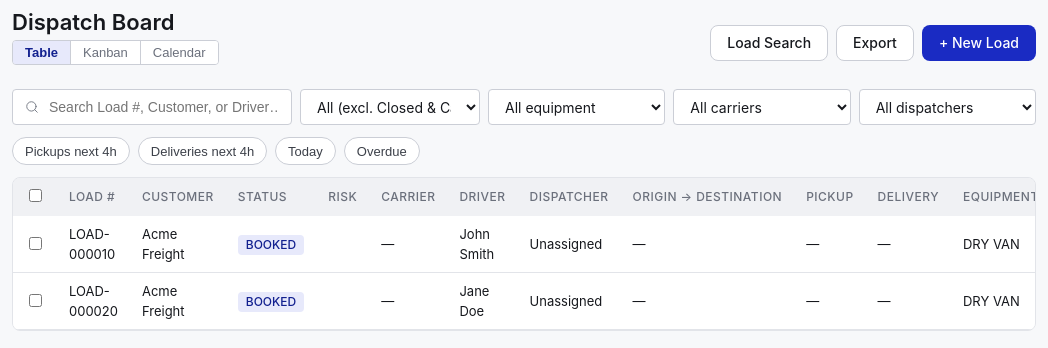
Test: DispatchBoardPage — Dispatch Board Driver visibility › search › matches driver full name
Expected: the text "LOAD-000010" is shown, [57,216,130,272]
In the field with placeholder "Search Load #, Customer, or Driver…": (163,107) [47,98,279,116], type "John Smith"
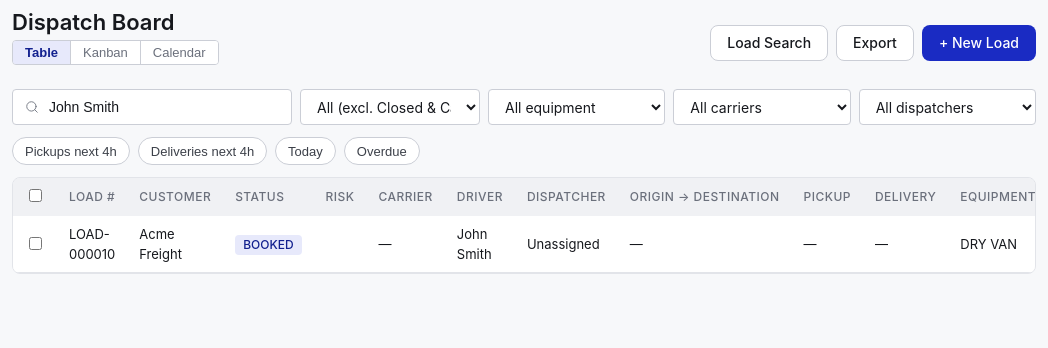
Expected: the text "LOAD-000010" is shown, [57,216,127,272]
Now the text "LOAD-000020" is gone
